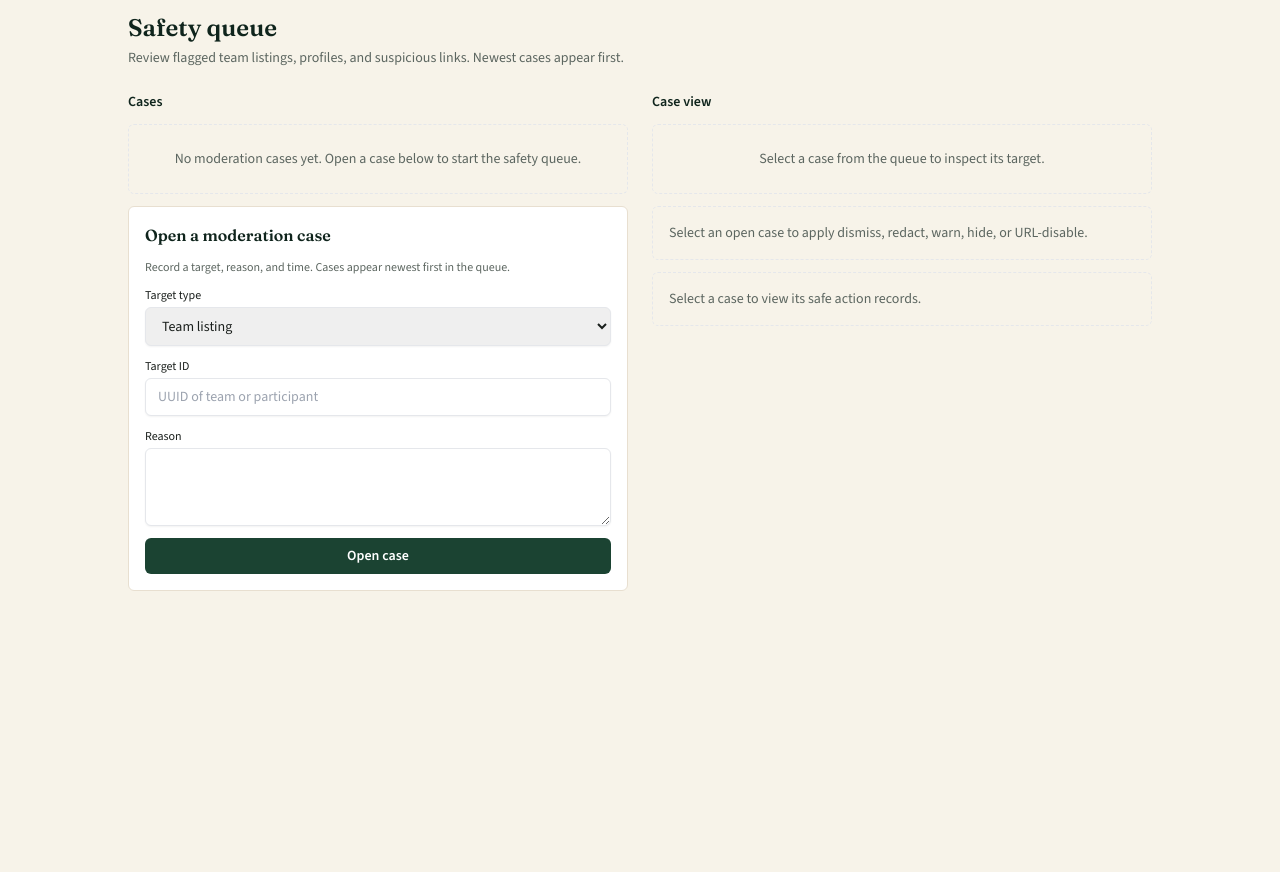
ModerationSafetyPage (US-026 / #241) › opens a case successfully and selects it in the queue
Expected: the form with test id "open-moderation-case-form" is shown, [128, 206, 628, 591]
Select "Participant profile" in the dropdown with test id "moderation-target-type" at (378, 326), box [145, 307, 611, 346]
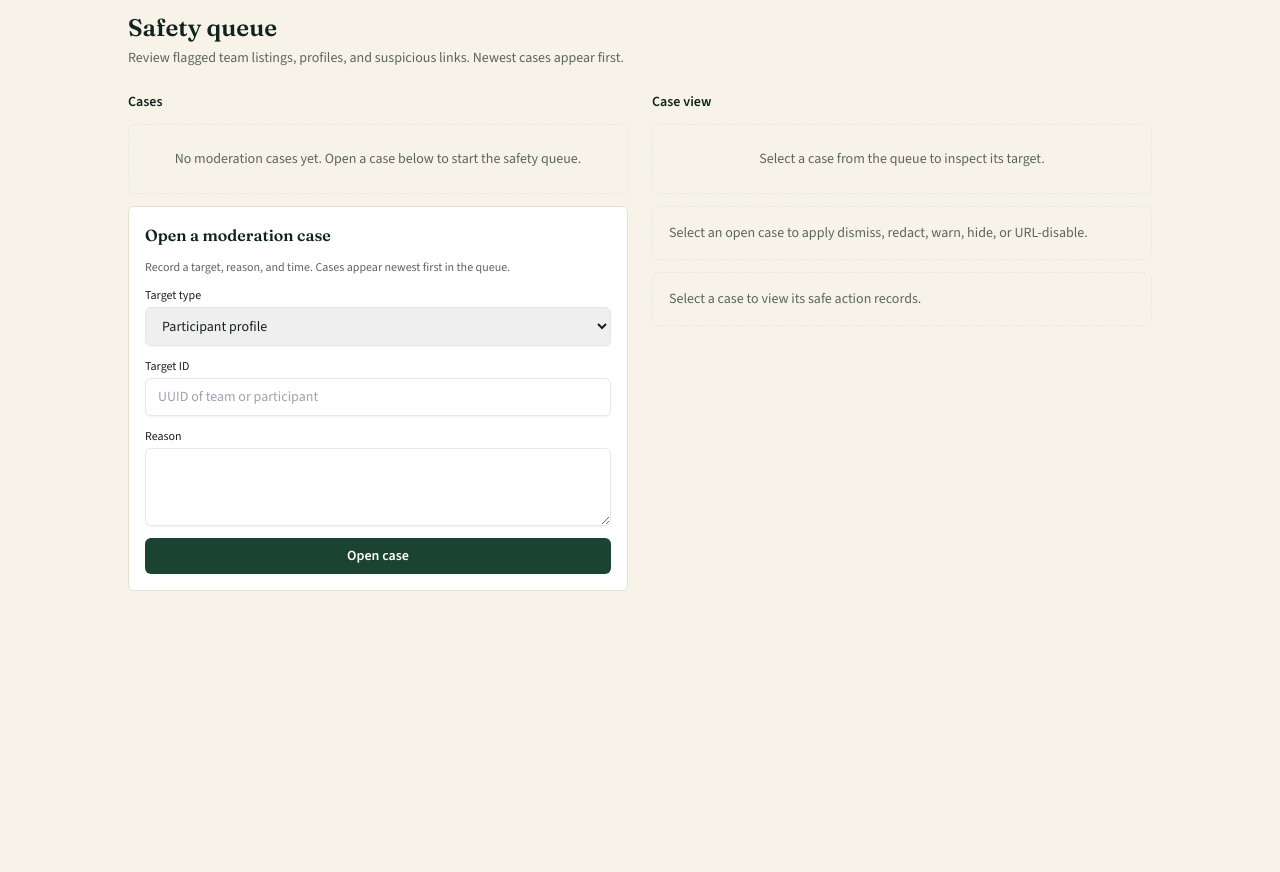
Type "bbbbbbbb-bbbb-4bbb-8bbb-bbbbbbbbbbbb" into the field with test id "moderation-target-id" at (378, 397), box [145, 378, 611, 416]
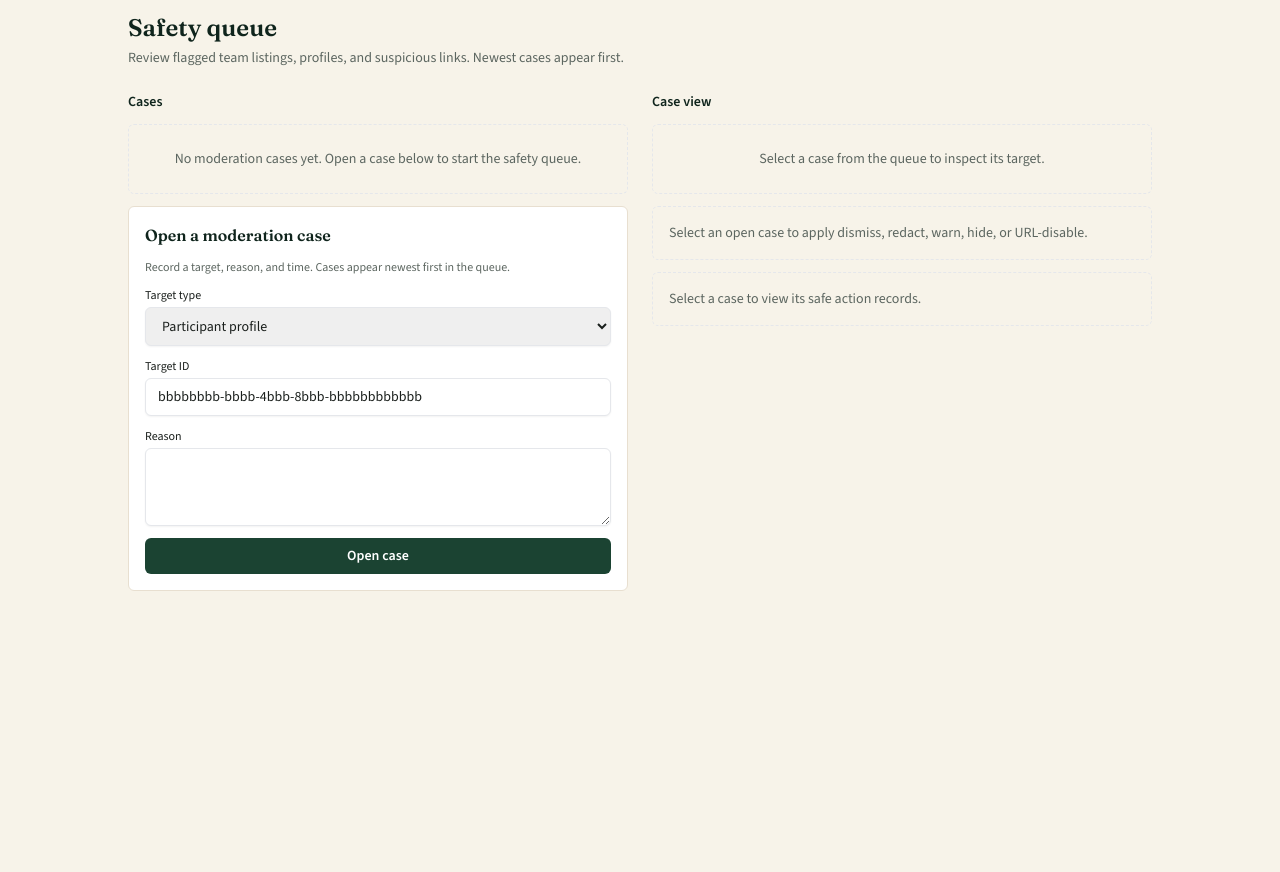
Type "Suspicious pitch" into the text box with test id "moderation-reason" at (378, 487), box [145, 448, 611, 526]
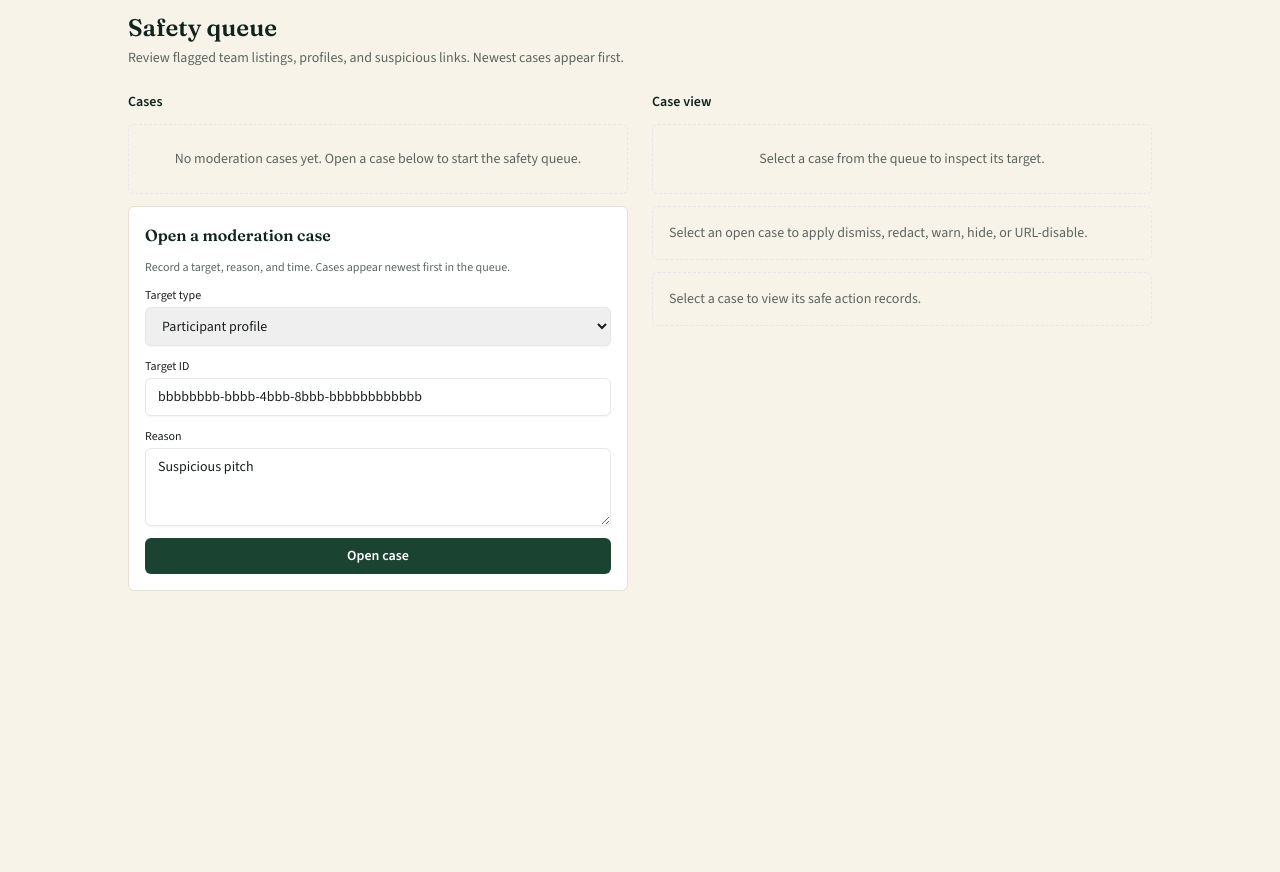
Click the button with test id "open-case-submit" at (378, 556), box [145, 538, 611, 574]
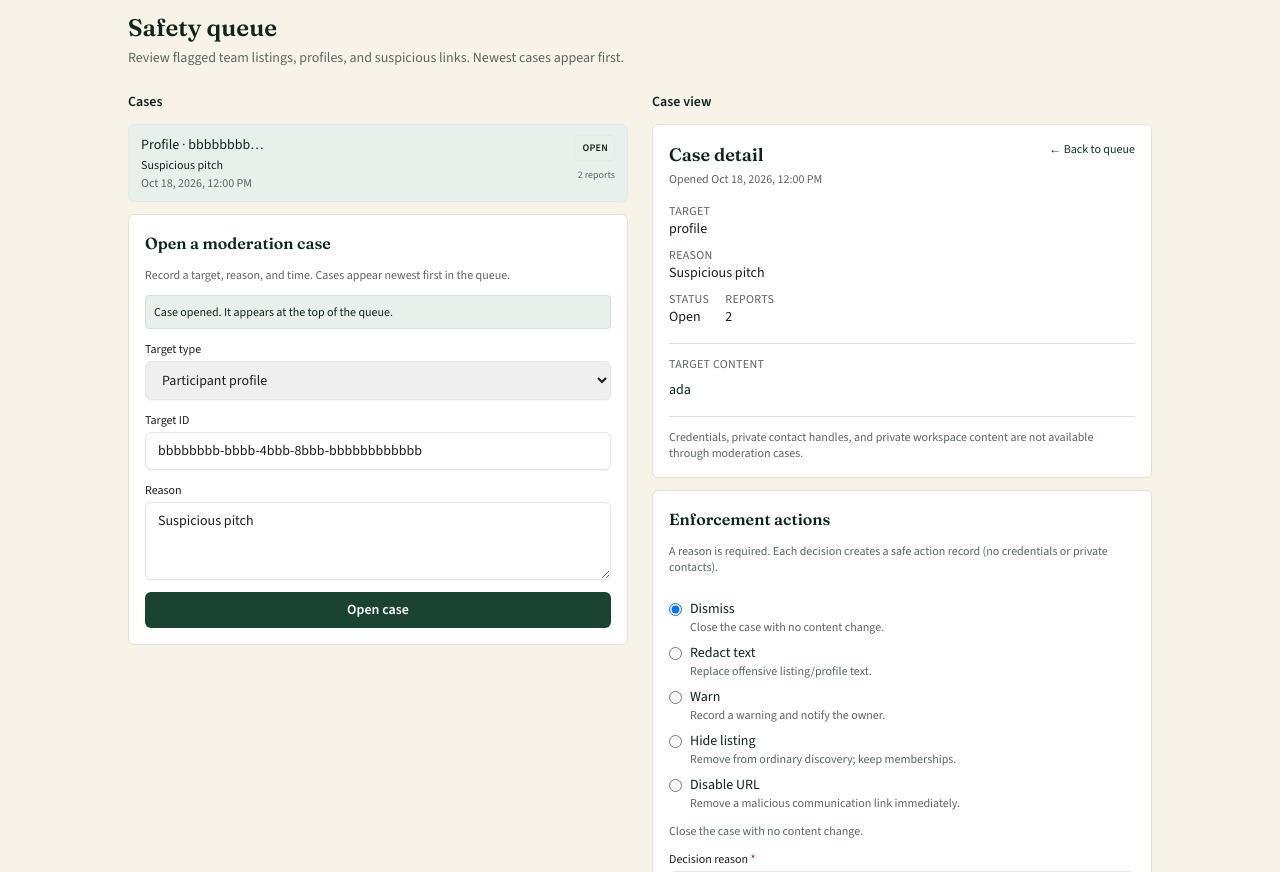
Now the message with test id "open-case-success" shows "Case opened", box [154, 304, 393, 320]
